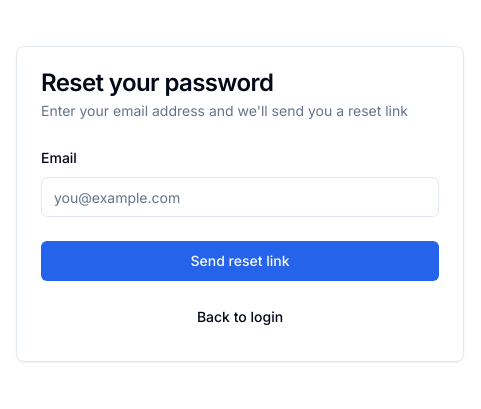
Test case: ResetPasswordPage › Password Reset Flow - Error Cases › should handle rate limiting errors
In the field labelled "Email": (240, 197) [41,177,439,217], type "test@example.com"
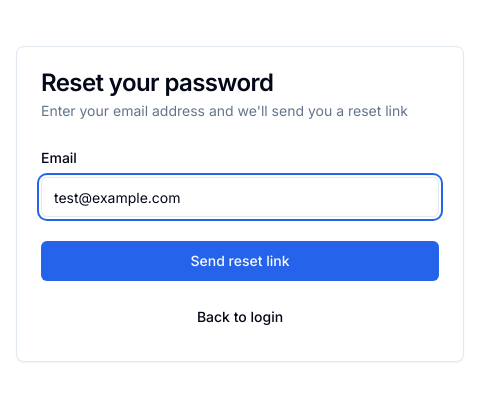
Click the button "Send reset link": (240, 261) [41,241,439,281]
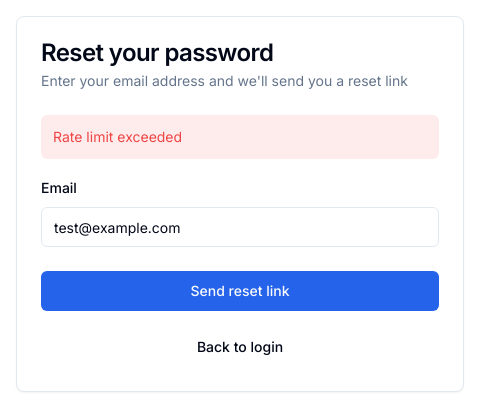
Expected: the text "Rate limit exceeded" is shown, [41,115,439,159]
